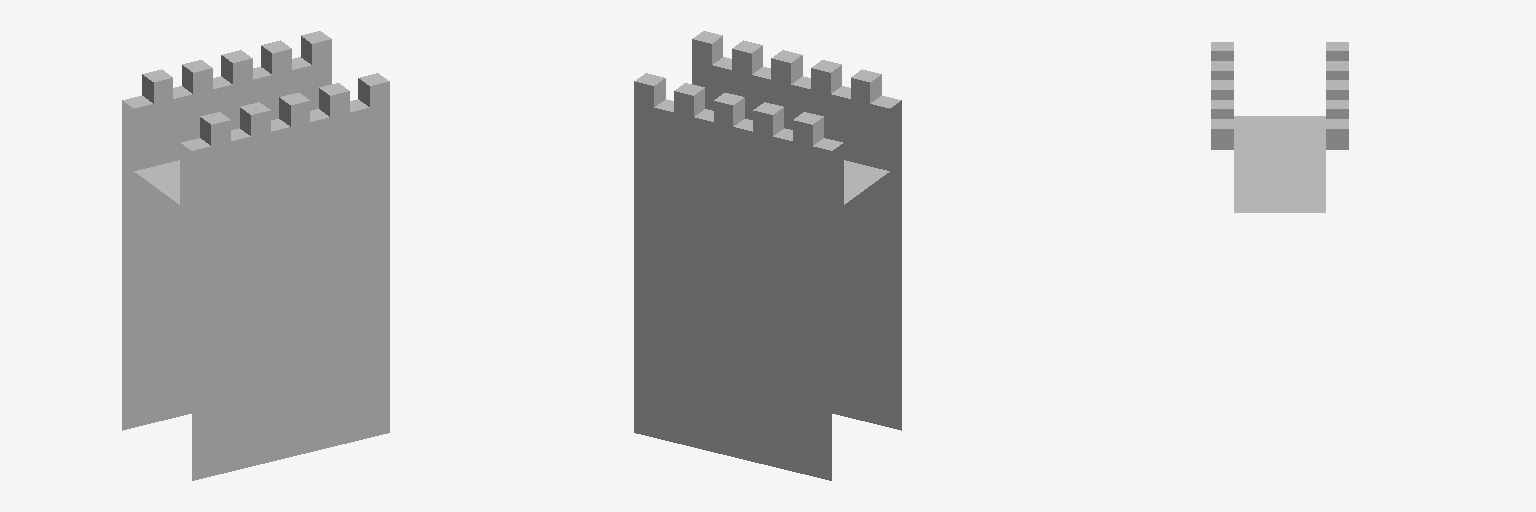
Rendered from wall.obj.
The picture shows the model from 3 angles: view 1: azimuth 30°, elevation 25°; view 2: azimuth 150°, elevation 25°; view 3: azimuth 270°, elevation 25°; orthographic projection.
Bounding box in the file's own units: 2.5 × 4.24 × 1.52.